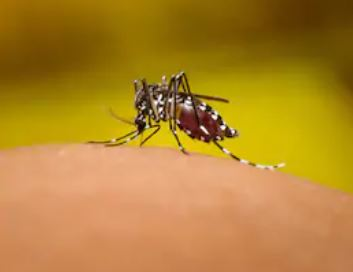dengue_mosquito: (84, 71, 286, 169)
